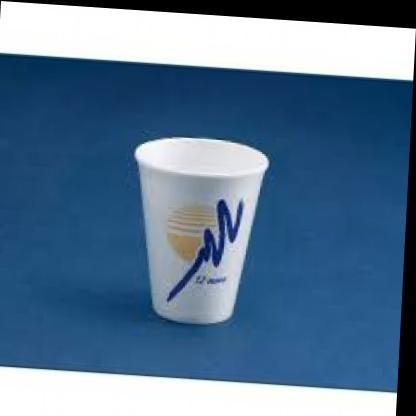trash: (135, 137, 268, 323)
